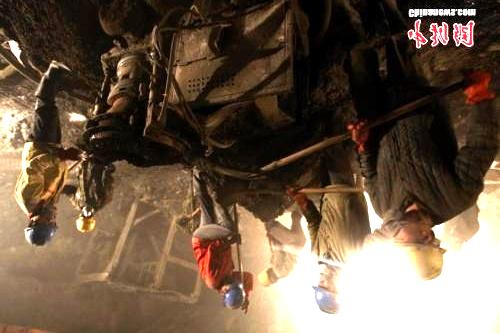helmet: (392, 209, 447, 280), (312, 266, 341, 315), (24, 210, 52, 247), (219, 281, 244, 311), (75, 206, 96, 234), (257, 267, 278, 287)
